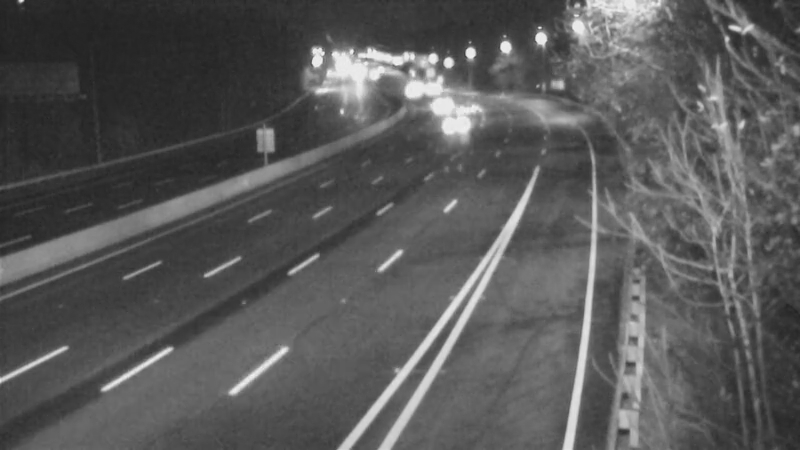vehicle: (414, 77, 464, 127), (445, 82, 495, 132), (434, 101, 484, 151)
